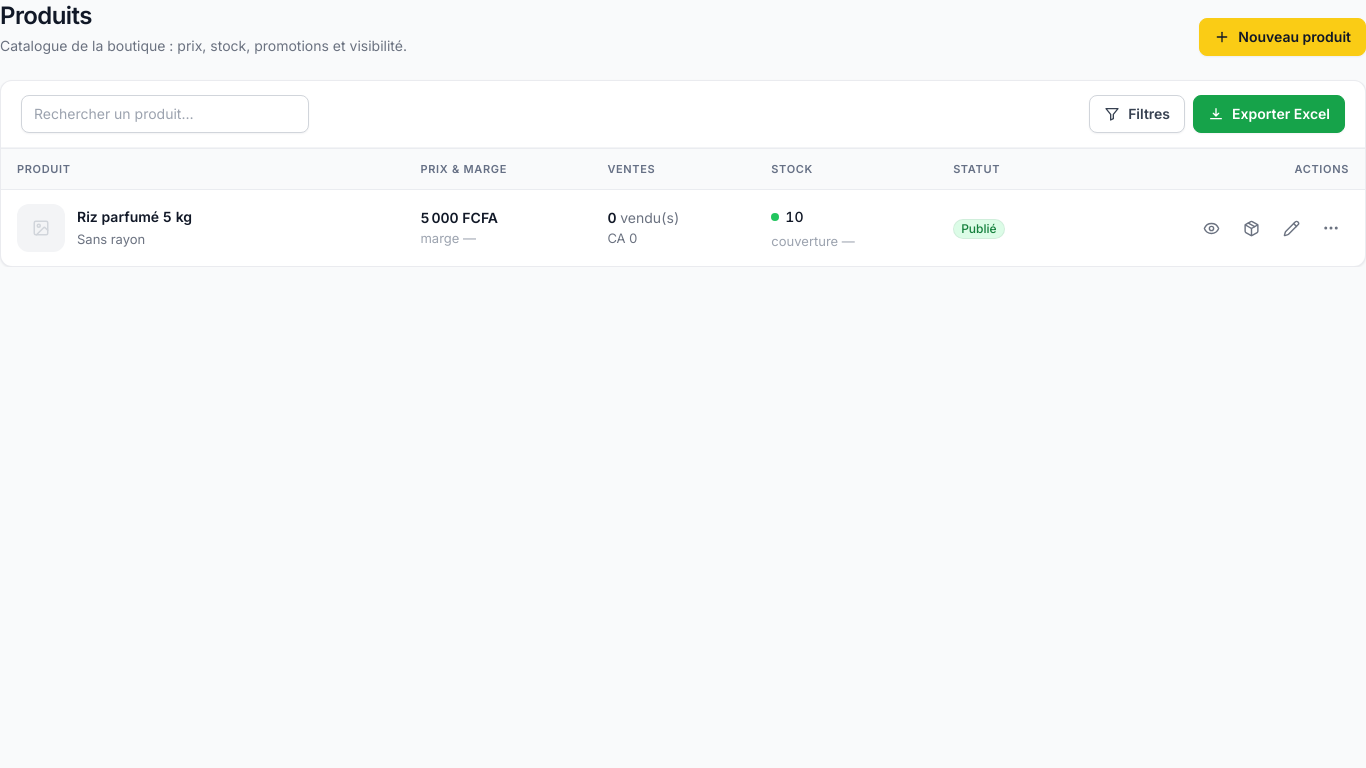
Produits : modification du stock depuis la liste › affiche la quantité actuelle et les derniers mouvements
Expected: the link "Riz parfumé 5 kg" is shown, [77, 207, 192, 227]
Step 1. Click the button named "Modifier le stock" → (1251, 228), box [1233, 210, 1269, 246]
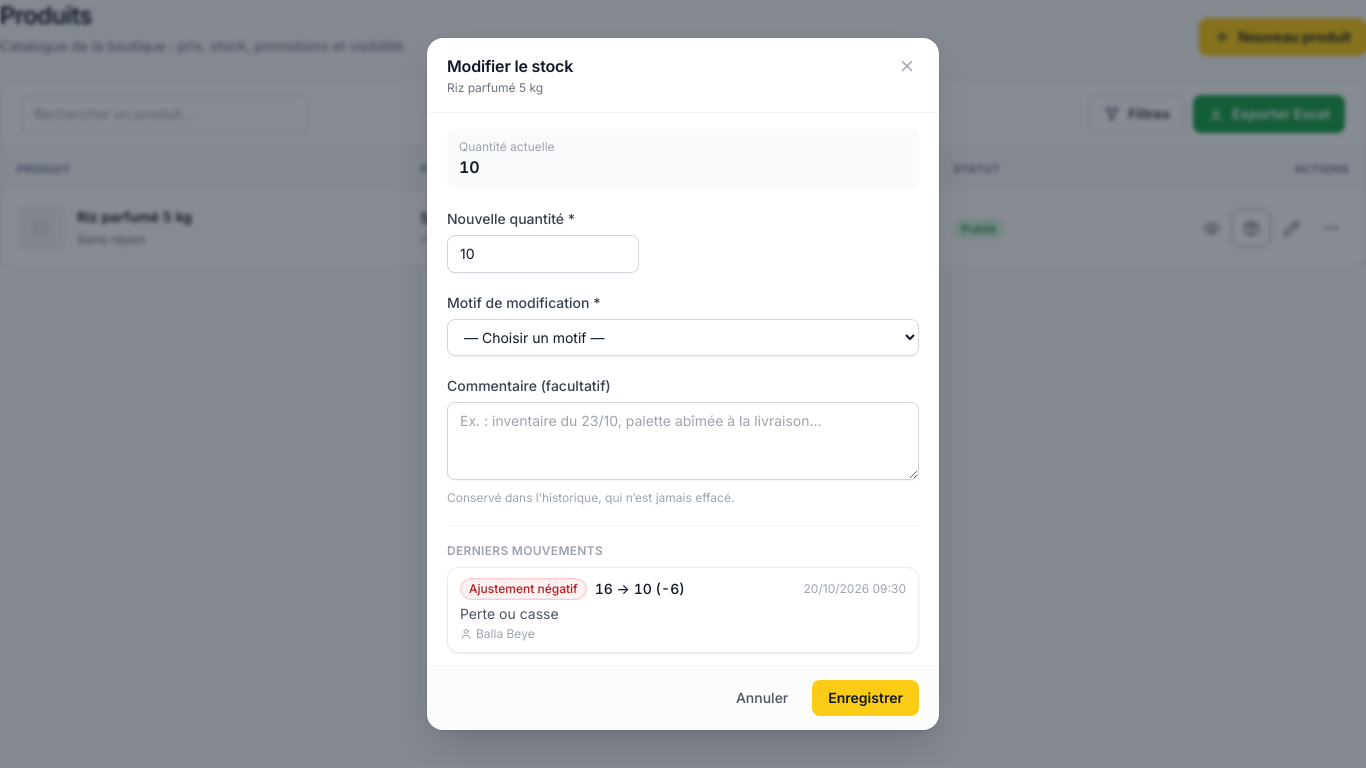
Expected: the text "Quantité actuelle" is shown, [459, 139, 554, 155]
Expected: the text "Ajustement négatif" is shown, [460, 578, 587, 600]
Expected: the text "Perte ou casse" is shown, [460, 605, 559, 622]
